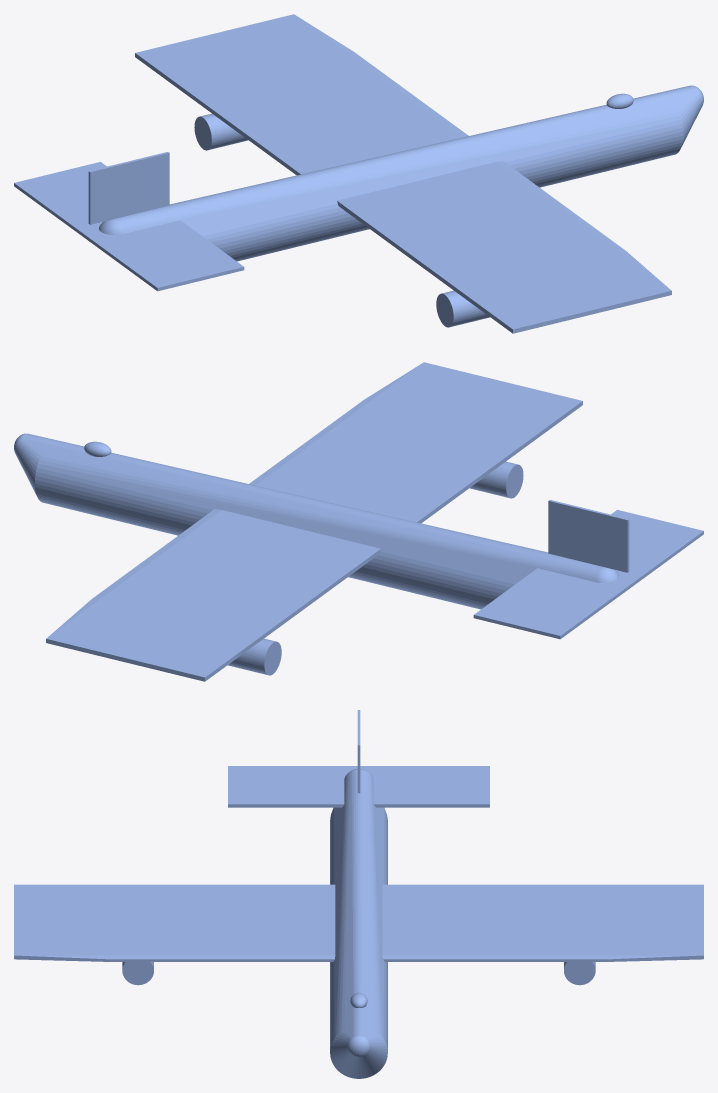
Rendered from airplane-32e6c5c2.glb.
The picture shows the model from 3 angles, top to bottom: view 1: azimuth 30°, elevation 25°; view 2: azimuth 150°, elevation 25°; view 3: azimuth 270°, elevation 25°; orthographic projection. The views are drawn at different scales.
Visible parts, largest first — view 1: output; view 2: output; view 3: output.
Part boxes in pixels (<box>): output: <box>14,14,703,333</box>; output: <box>14,362,703,681</box>; output: <box>14,710,703,1078</box>.
Size of the model in its own units: 2.17 by 0.4145 by 2.3.
